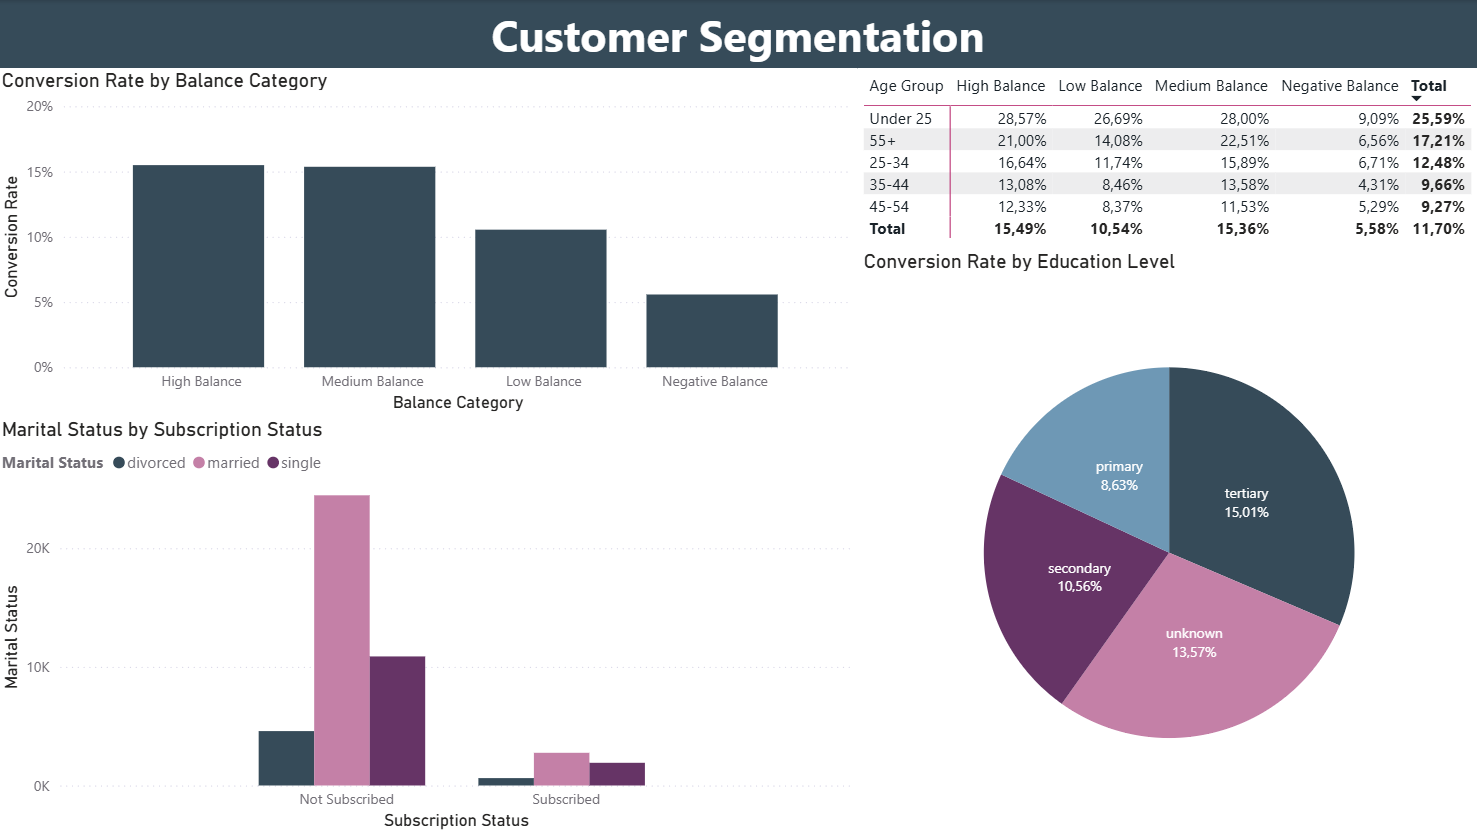

What the dashboard file says about the page in this screenshot:
{"tool":"powerbi","page":{"name":"Customer Segment Deep Dive","canvas":[1280,720],"ordinal":3},"visuals":[{"type":"textbox","box":[0,0,1280,58.7],"z":0},{"type":"columnChart","fields":{"Category":["bank_marketing_clean.balance_category"],"Y":["bank_marketing_clean.Conversion Rate"]},"box":[0,58.2,743.3,301.1],"z":1000},{"type":"pieChart","fields":{"Category":["bank_marketing_clean.education_level"],"Y":["bank_marketing_clean.Conversion Rate"]},"box":[743.3,214.7,536.7,504.9],"z":2000},{"type":"clusteredColumnChart","title":"Marital Status by Subscription Status","fields":{"Category":["bank_marketing_clean.subscription_status"],"Y":["CountNonNull(bank_marketing_clean.marital_status)"],"Series":["bank_marketing_clean.marital_status"]},"box":[0,359.3,743.3,361.2],"z":3000},{"type":"pivotTable","fields":{"Rows":["bank_marketing_clean.age_group"],"Columns":["bank_marketing_clean.balance_category"],"Values":["bank_marketing_clean.Conversion Rate"]},"box":[743.3,58.2,536.7,156.5],"z":4000}]}

Visuals, with their boxes in screenshot pixels (x1, y1, x2, y2), scaled from the page's 1280x720 canvas onto the 1477x833 screenshot:
textbox: bbox=(0, 0, 1476, 68)
columnChart - bank_marketing_clean.balance_category x bank_marketing_clean.Conversion Rate: bbox=(0, 67, 858, 416)
pieChart - bank_marketing_clean.education_level x bank_marketing_clean.Conversion Rate: bbox=(858, 248, 1476, 832)
"Marital Status by Subscription Status" clusteredColumnChart: bbox=(0, 416, 858, 832)
pivotTable - bank_marketing_clean.age_group x bank_marketing_clean.balance_category: bbox=(858, 67, 1476, 248)
